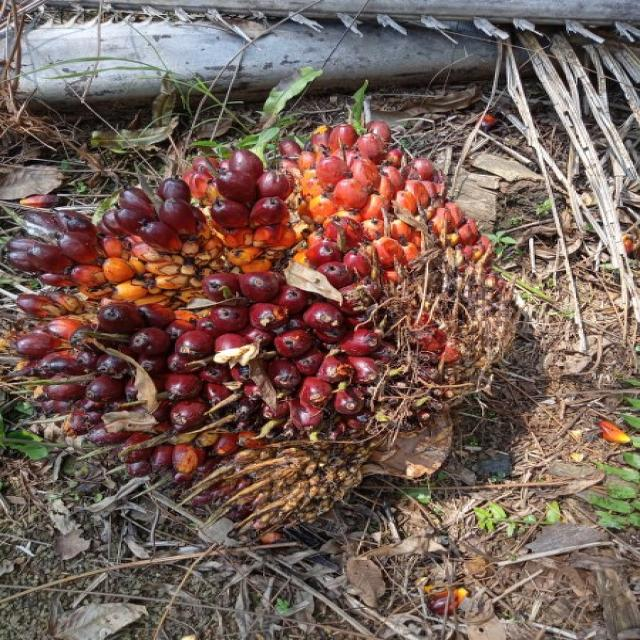fraksi 3: (0, 103, 563, 549)
